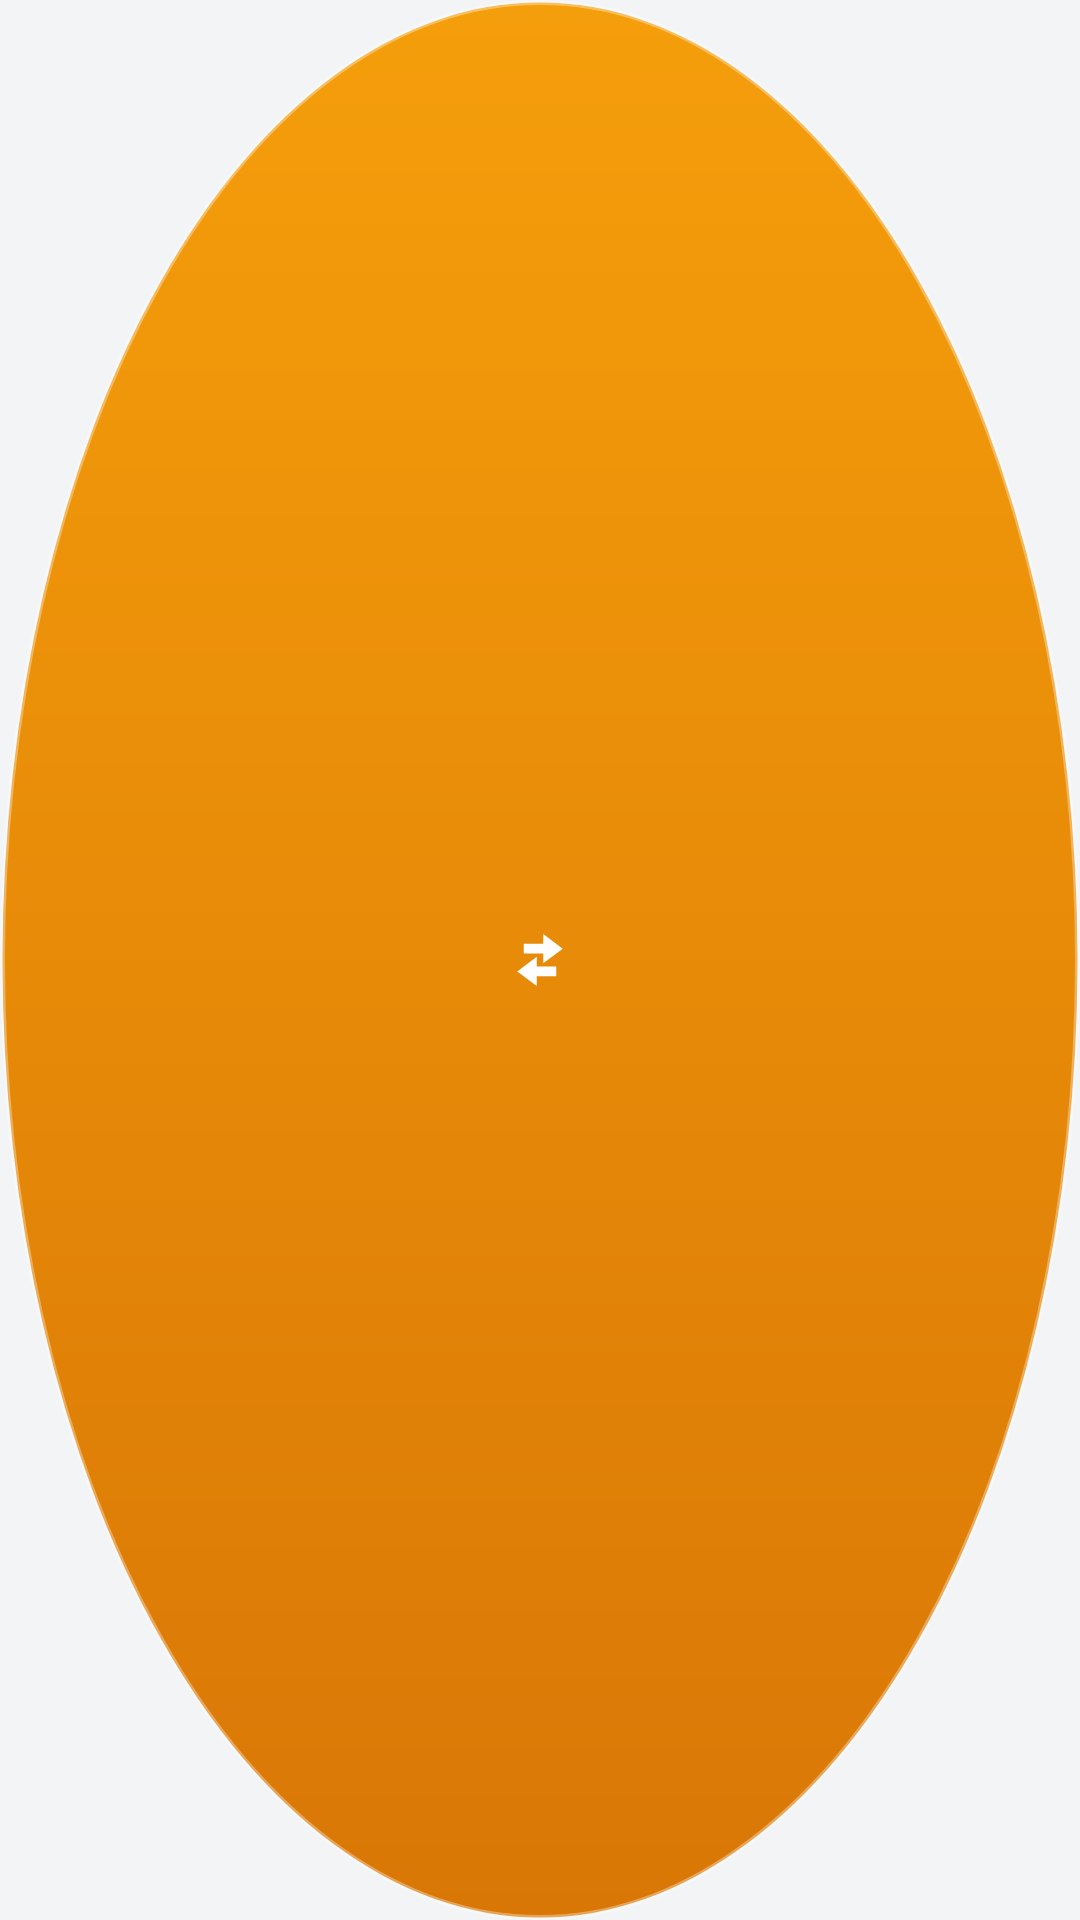

Screen size 1080*1920. Icon name, then its box in pixels as box(x1, y1, x2, y2):
swap: box(517, 934, 563, 986)
